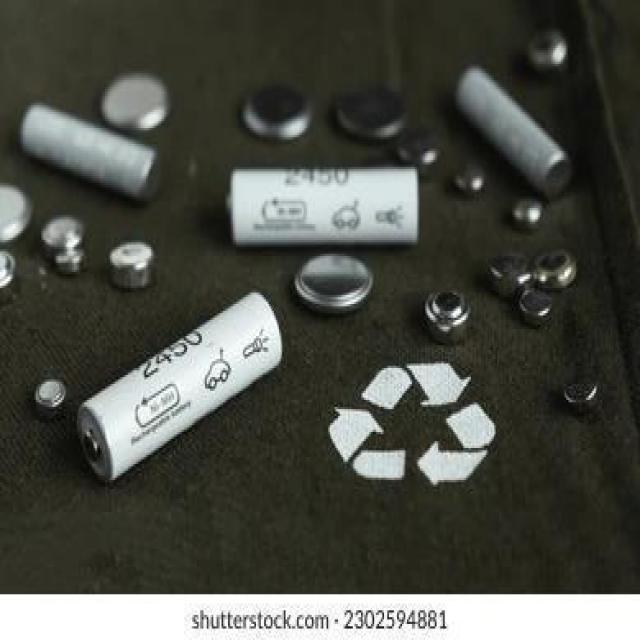AA: (73, 287, 284, 485), (452, 62, 579, 203), (224, 163, 422, 251), (16, 97, 163, 206)
COIN: (292, 248, 374, 312), (422, 284, 470, 341)
